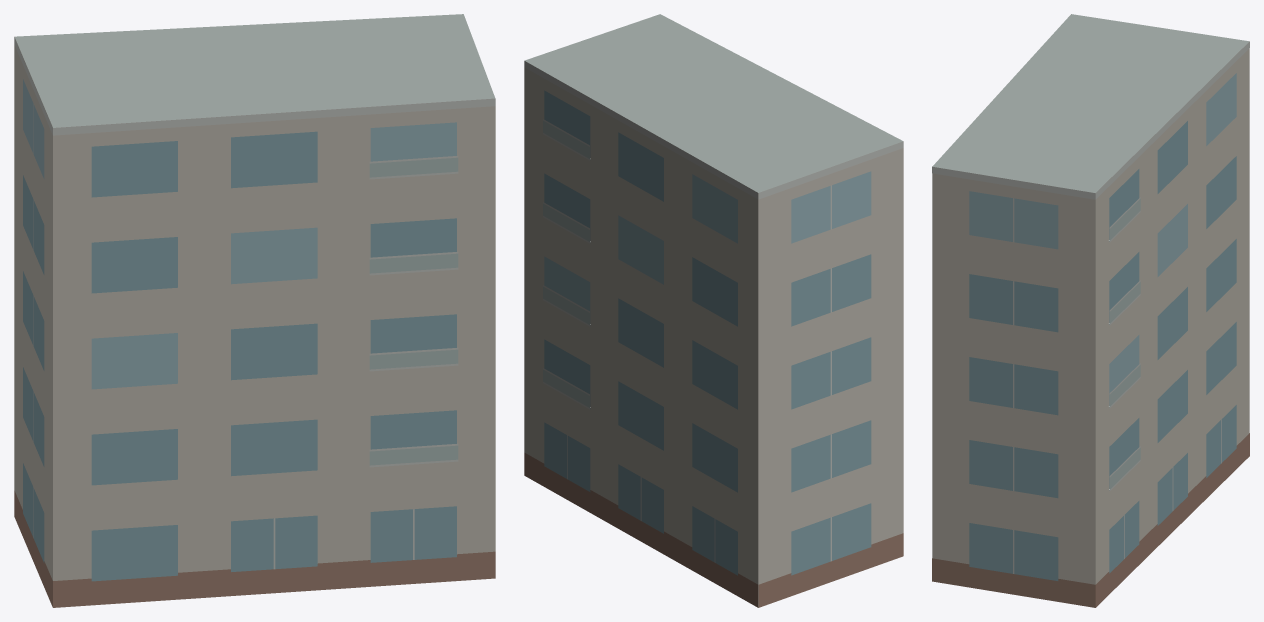
Rendered from survey-upis-32935981.glb.
The picture shows the model from 3 angles, left to right: view 1: azimuth 30°, elevation 25°; view 2: azimuth 150°, elevation 25°; view 3: azimuth 270°, elevation 25°; orthographic projection. The views are drawn at different scales.
Parts seen in each view (by area): view 1: survey-upis-32935981.tmp; view 2: survey-upis-32935981.tmp; view 3: survey-upis-32935981.tmp.
Boxes of the visible parts, x1,y1,x2,y2 form: survey-upis-32935981.tmp: [14, 14, 495, 607]; survey-upis-32935981.tmp: [524, 14, 903, 607]; survey-upis-32935981.tmp: [932, 14, 1249, 607].
Size of the model in its own units: 14.13 by 15.25 by 10.59.
